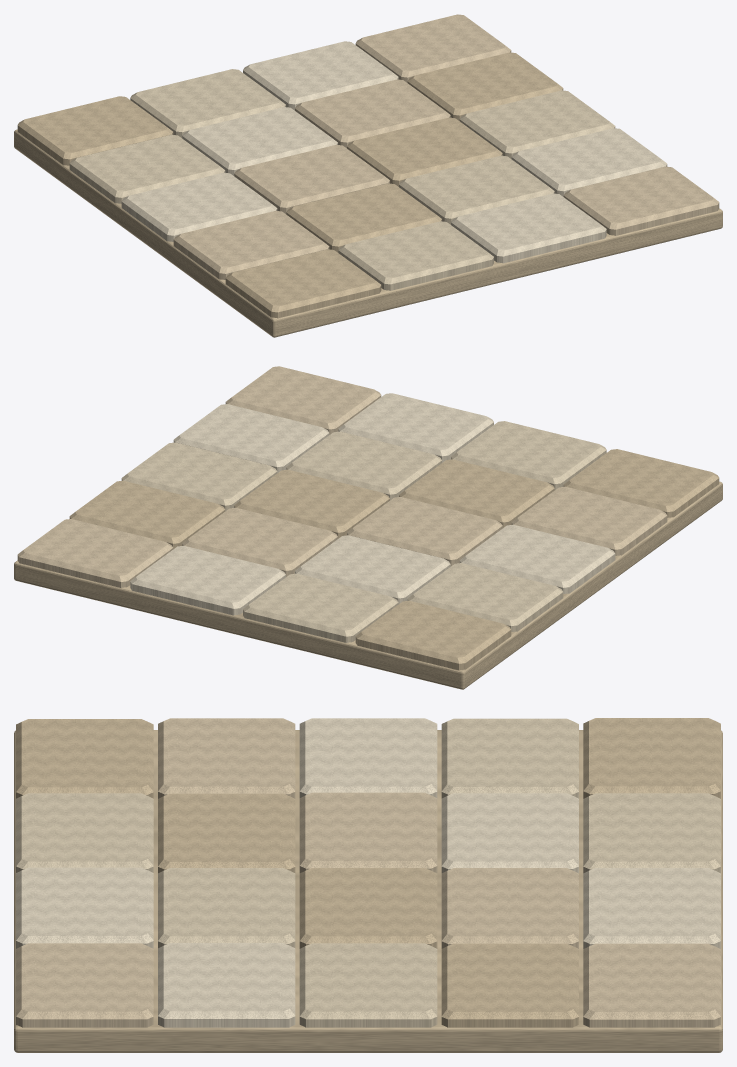
File: paving-module.glb
The picture shows the model from 3 angles, top to bottom: view 1: azimuth 30°, elevation 25°; view 2: azimuth 150°, elevation 25°; view 3: azimuth 270°, elevation 25°; orthographic projection. The views are drawn at different scales.
Visible parts, largest first — view 1: paving_module; view 2: paving_module; view 3: paving_module.
Boxes of the visible parts, <box> form: paving_module: <box>14,14,722,337</box>; paving_module: <box>14,366,722,689</box>; paving_module: <box>14,718,722,1052</box>.
Size of the model in its own units: 2 by 0.124 by 2.
Materials: 4 (4 with a texture image).
